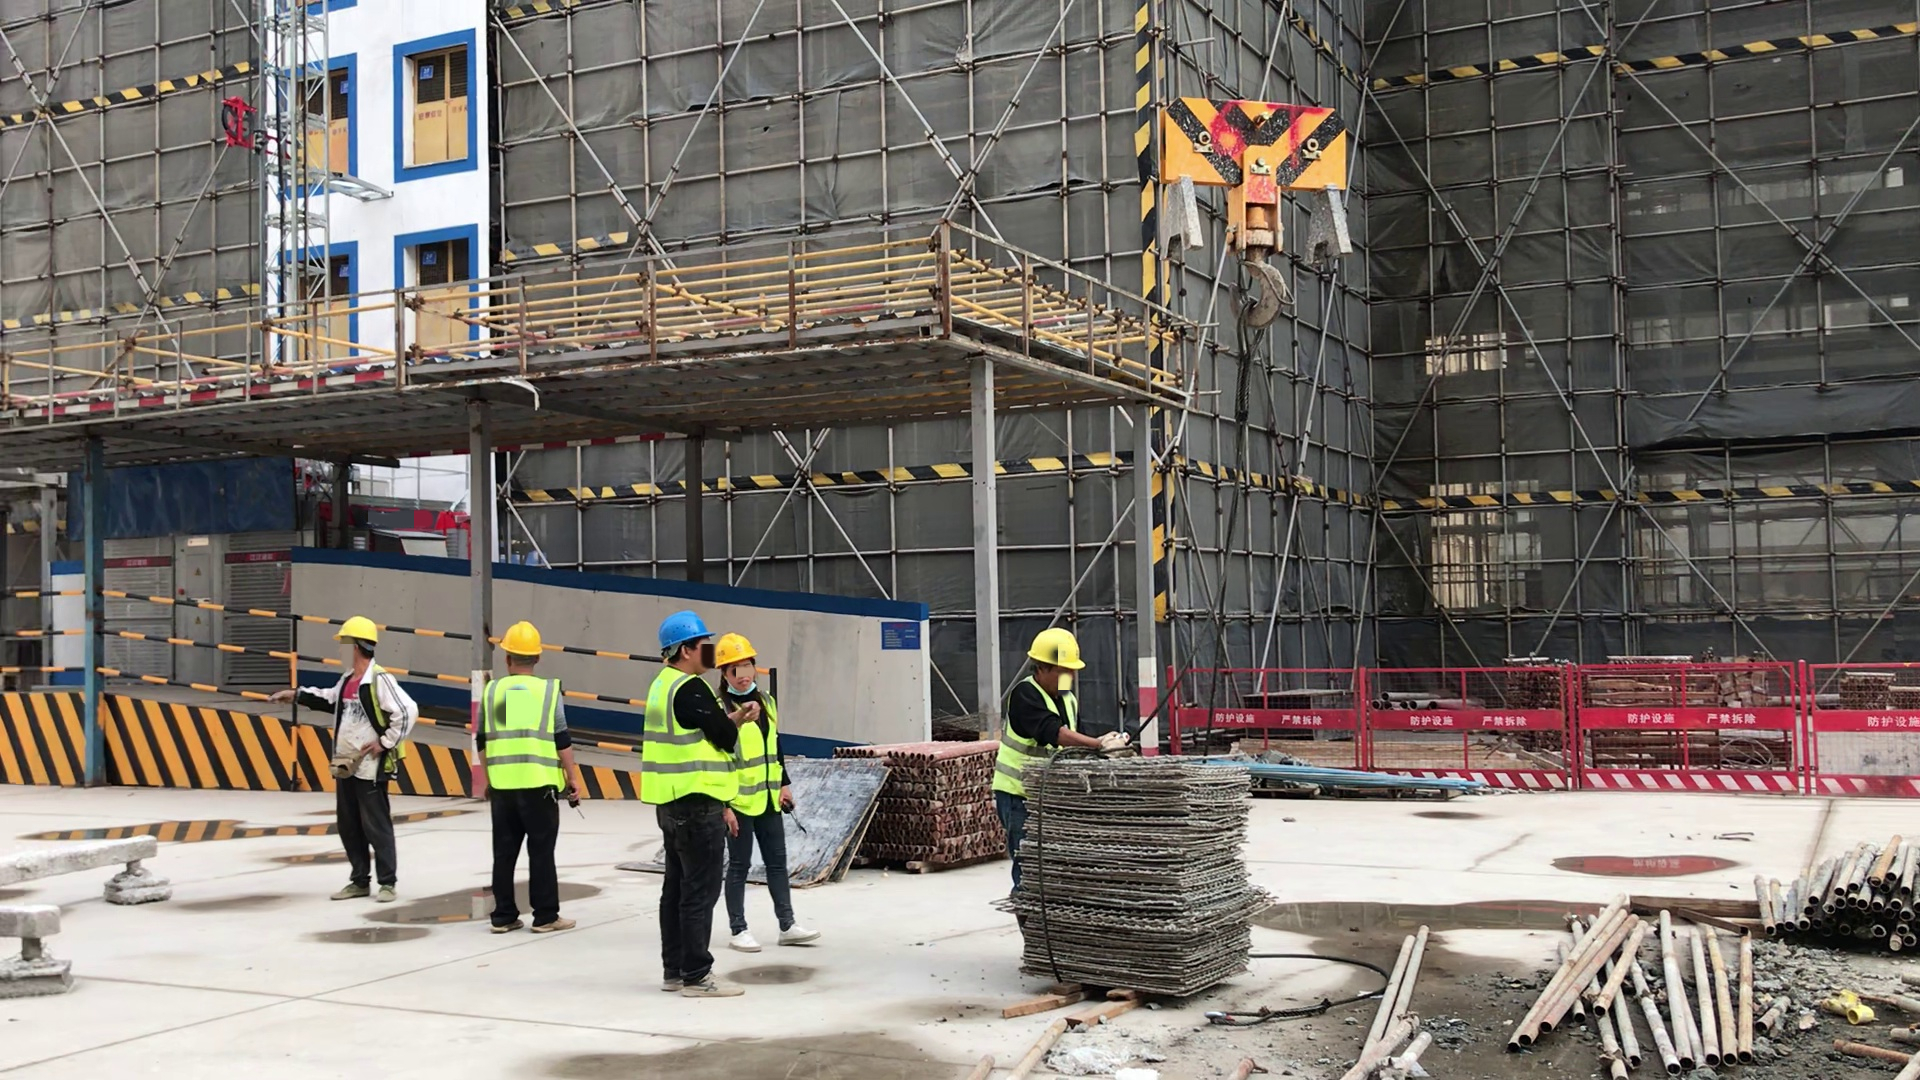fence: (1168, 663, 1920, 810)
helmet: (1024, 625, 1089, 672), (653, 612, 718, 654), (498, 619, 548, 668), (335, 614, 385, 657), (715, 632, 758, 676)
hook: (1149, 76, 1360, 339)
person: (638, 612, 750, 1002), (711, 630, 821, 956), (484, 620, 585, 940), (318, 609, 418, 905), (1000, 623, 1082, 837)
scaffold: (1554, 901, 1754, 1063), (829, 734, 1004, 875), (1740, 840, 1920, 950)
vest: (643, 668, 738, 808), (986, 684, 1089, 799), (483, 676, 568, 801), (736, 689, 786, 821)
